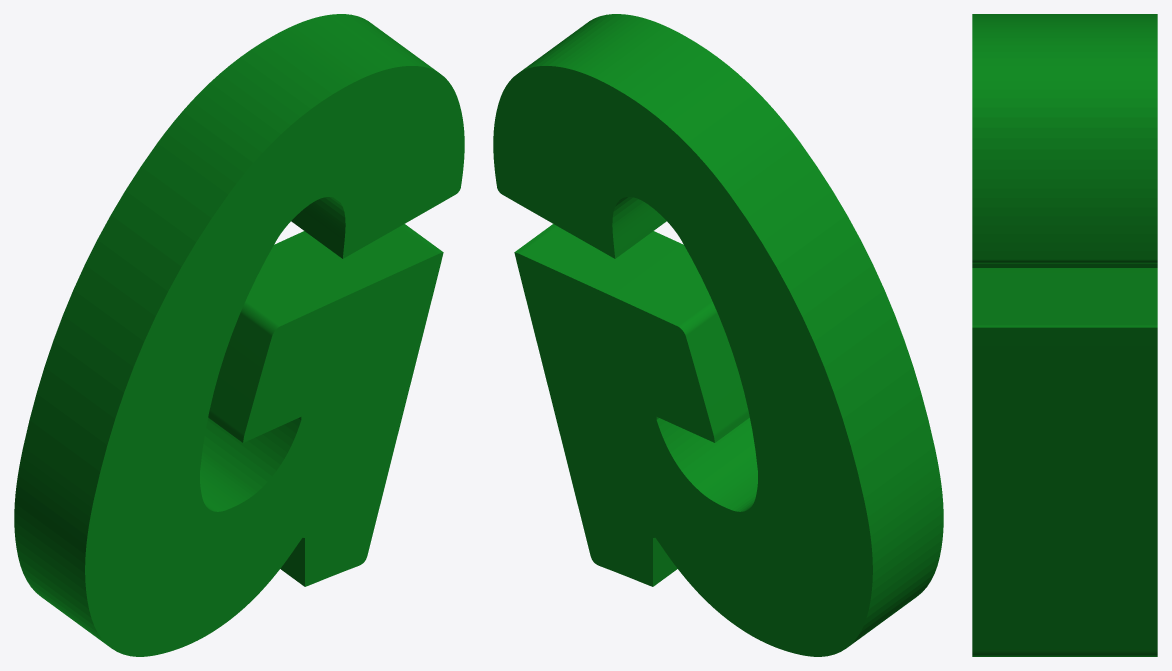
Rendered from LETTERG.gltf.
3 renders of one model, left to right at view 1: azimuth 30°, elevation 25°; view 2: azimuth 150°, elevation 25°; view 3: azimuth 270°, elevation 25°, orthographic. The views are drawn at different scales.
Parts seen in each view (by area): view 1: Curve.015; view 2: Curve.015; view 3: Curve.015.
Boxes of the visible parts, x1,y1,x2,y2 form: Curve.015: [14, 14, 464, 656]; Curve.015: [493, 14, 943, 656]; Curve.015: [972, 14, 1157, 656].
Bounding box in the file's own units: 0.0989 × 0.1318 × 0.032.
